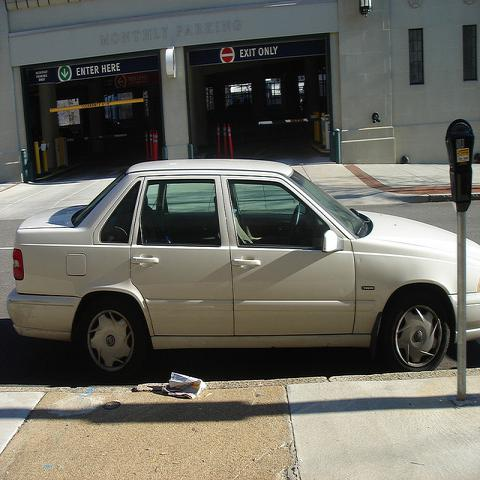car: (8, 160, 480, 378)
